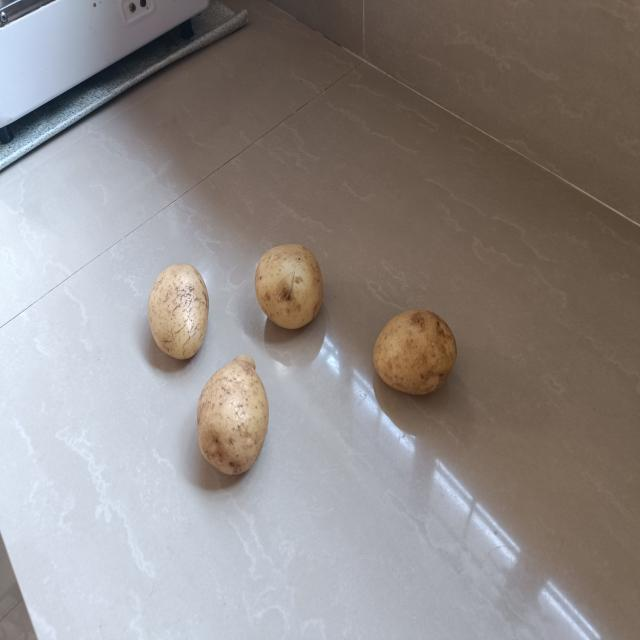potato: (195, 351, 270, 479), (369, 302, 459, 398), (253, 239, 330, 333), (146, 260, 214, 364)
